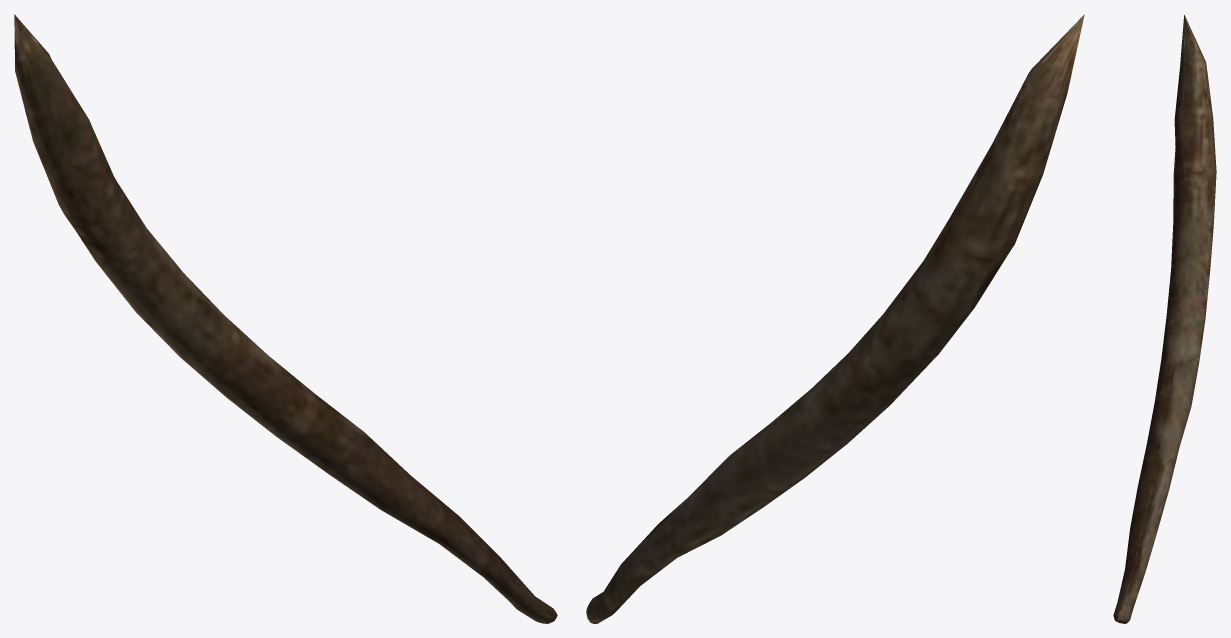
The picture shows the model from 3 angles, left to right: view 1: azimuth 30°, elevation 25°; view 2: azimuth 150°, elevation 25°; view 3: azimuth 270°, elevation 25°; orthographic projection. The views are drawn at different scales.
Parts seen in each view (by area): view 1: G-Line003.011; view 2: G-Line003.011; view 3: G-Line003.011.
Boxes of the visible parts, x1,y1,x2,y2 form: G-Line003.011: [14, 14, 557, 623]; G-Line003.011: [586, 14, 1084, 623]; G-Line003.011: [1113, 15, 1216, 623].
Bounding box in the file's own units: 0.7835 × 1.06 × 0.217.
Materials: 1 (1 with a texture image).
